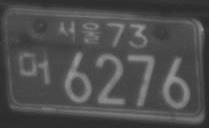2: (94, 51, 127, 106)
3: (126, 21, 149, 50)
6: (62, 49, 93, 105), (160, 56, 192, 110)
7: (127, 52, 155, 107), (104, 20, 125, 48)
머: (17, 47, 52, 86)
서울_O: (54, 19, 102, 47)
